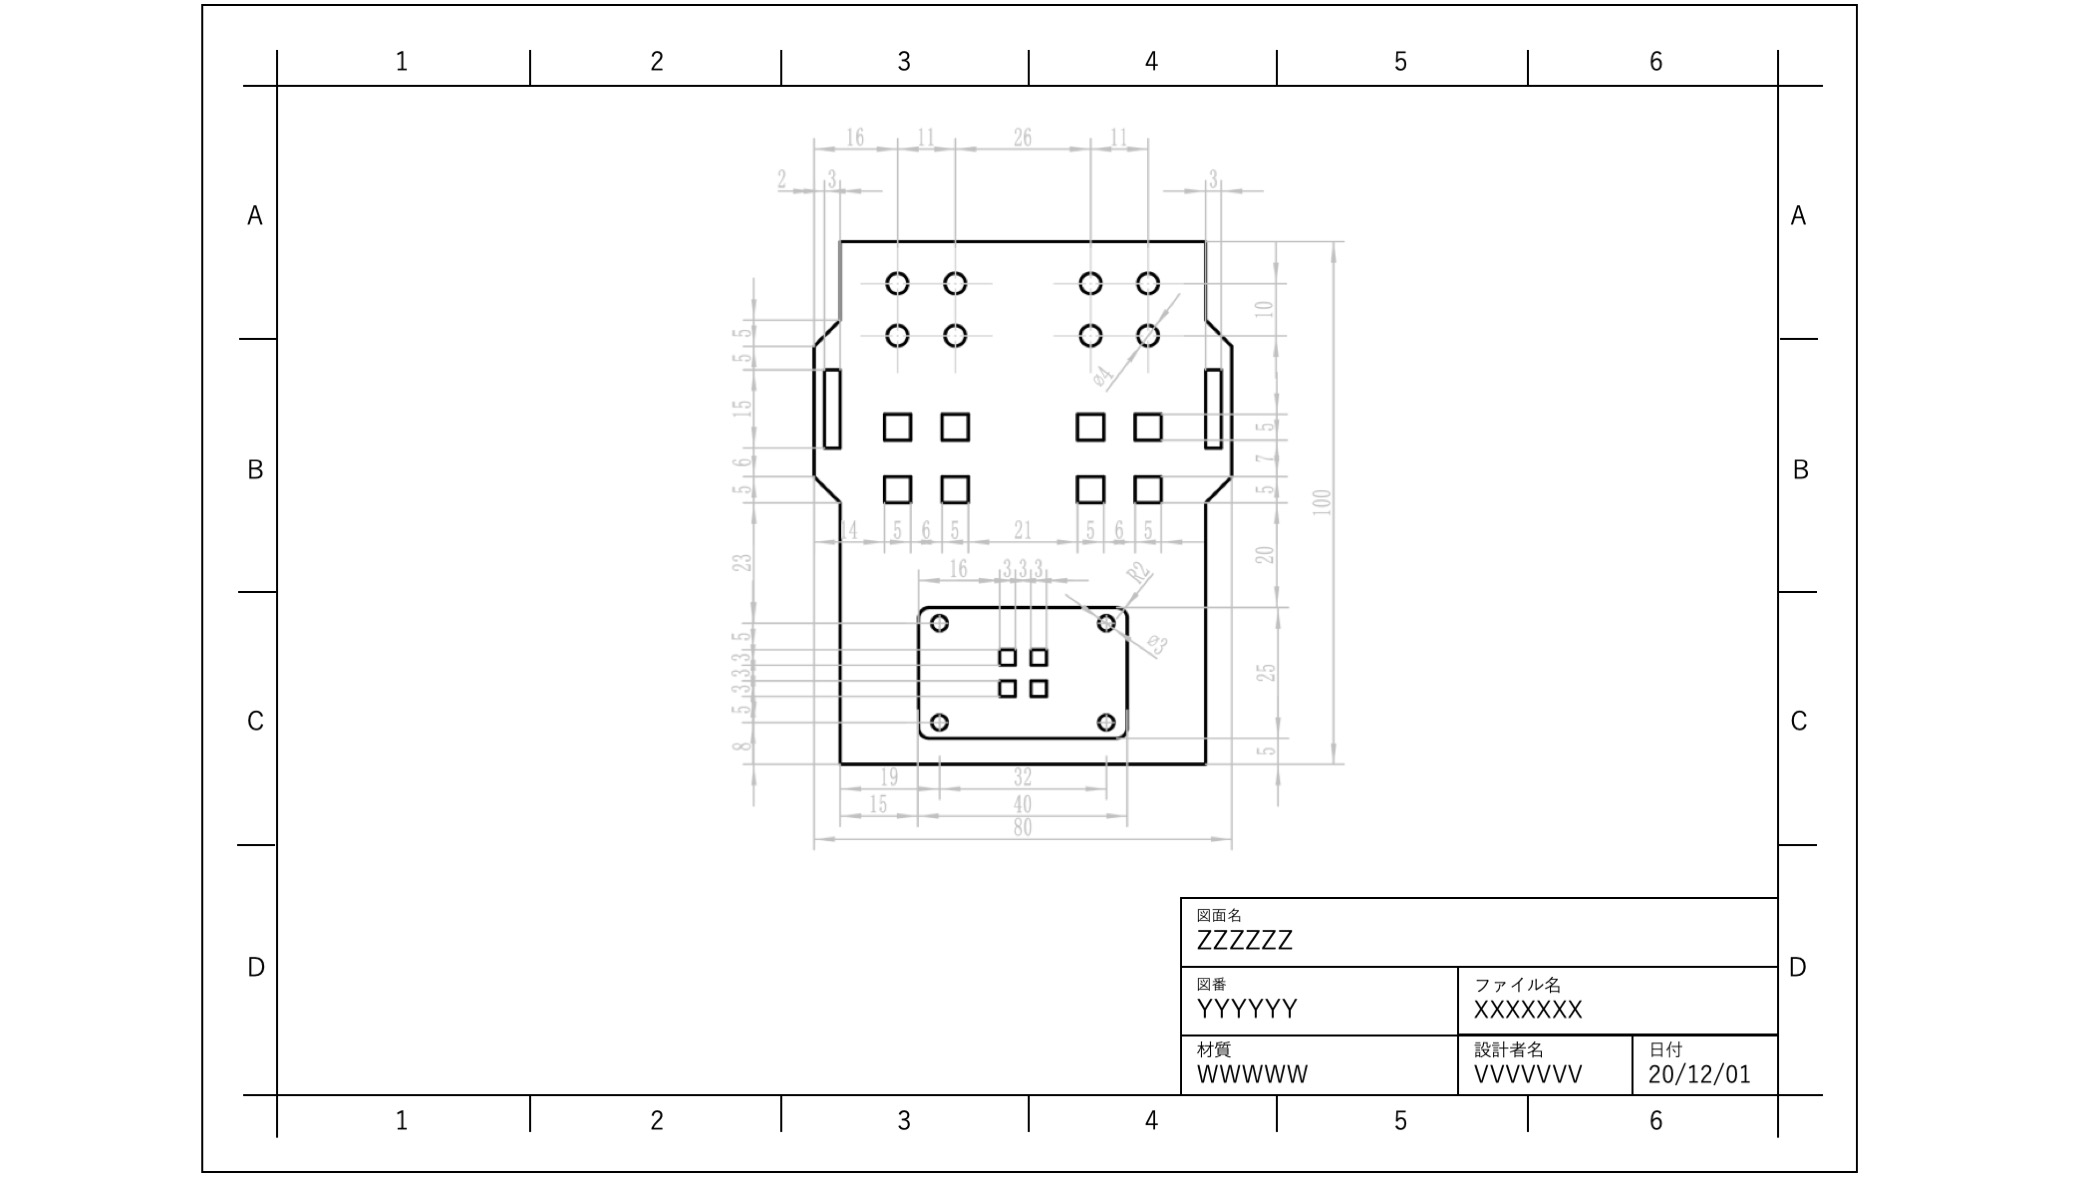circle: (937, 265, 971, 298), (1132, 323, 1165, 353), (886, 268, 916, 298), (883, 319, 912, 350), (940, 319, 969, 350), (1075, 320, 1103, 348), (1077, 270, 1105, 296), (1137, 270, 1164, 296), (925, 708, 952, 733), (1095, 707, 1118, 734), (1090, 611, 1116, 633), (926, 611, 950, 633)
rectangle: (1197, 361, 1230, 451), (818, 363, 844, 456), (1072, 407, 1111, 447), (937, 469, 974, 510), (1072, 466, 1108, 508), (1134, 405, 1170, 447), (936, 407, 974, 446), (1129, 470, 1165, 509), (877, 407, 913, 444), (878, 472, 917, 505), (995, 675, 1020, 702), (1028, 675, 1050, 702), (1025, 645, 1049, 668), (995, 642, 1015, 668)
